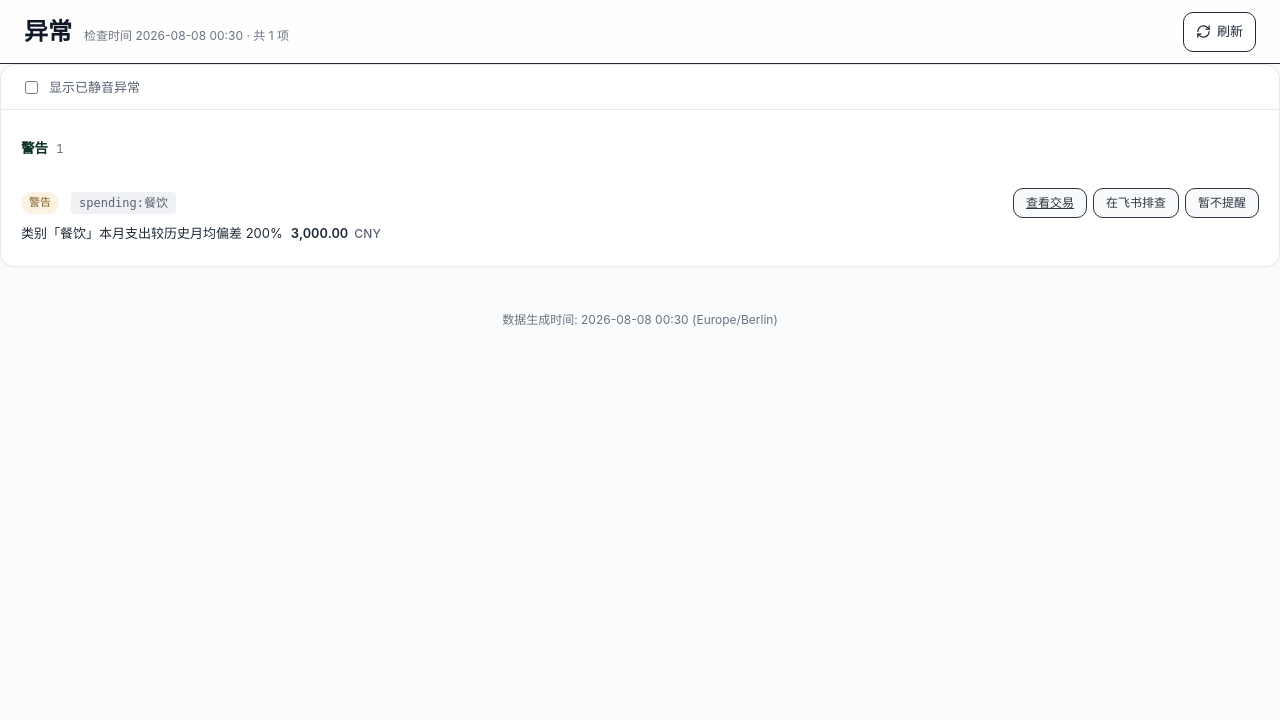
Test case: AlertsPage › 点击「在飞书排查」写入确定性 id 的排查指令并显示 toast
The image size is (1280, 720).
Expected: the element with class "anomaly-list" is shown, [0,64,1279,266]
Step 1. Click the button "在飞书排查" → (1136, 203), box [1093,188,1179,218]
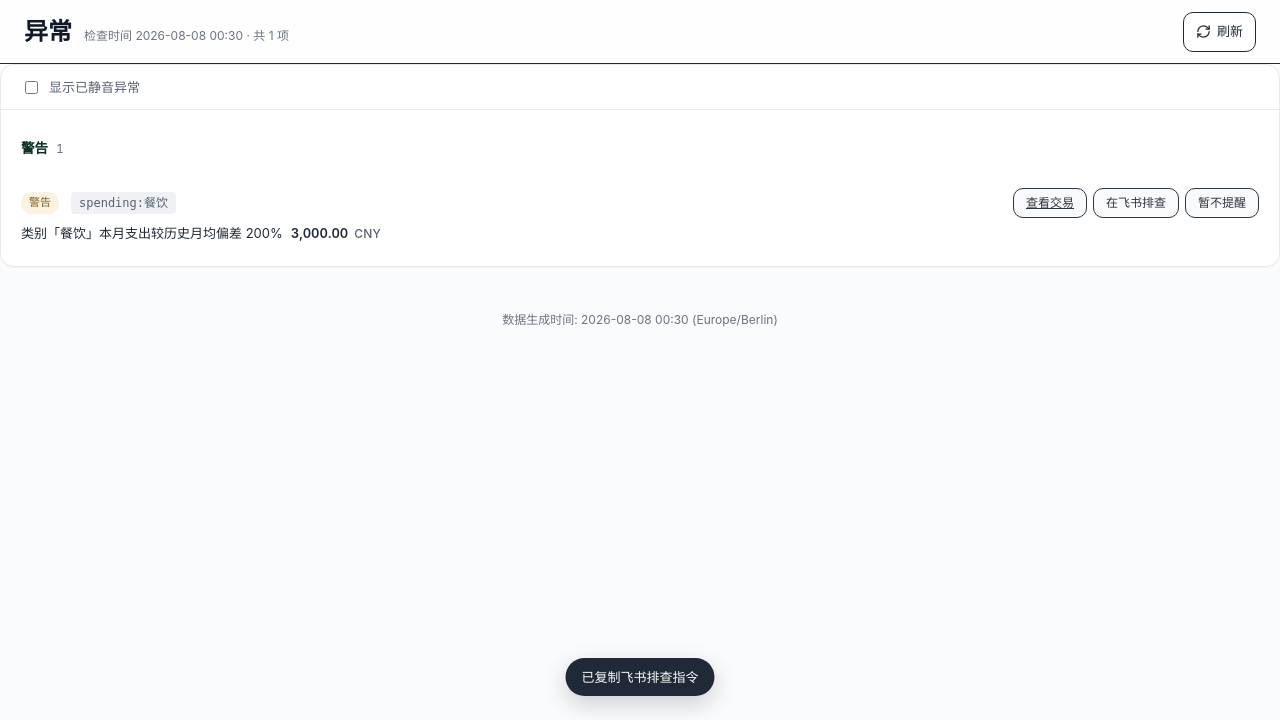
Expected: the text "已复制飞书排查指令" is shown, [566,658,714,696]
